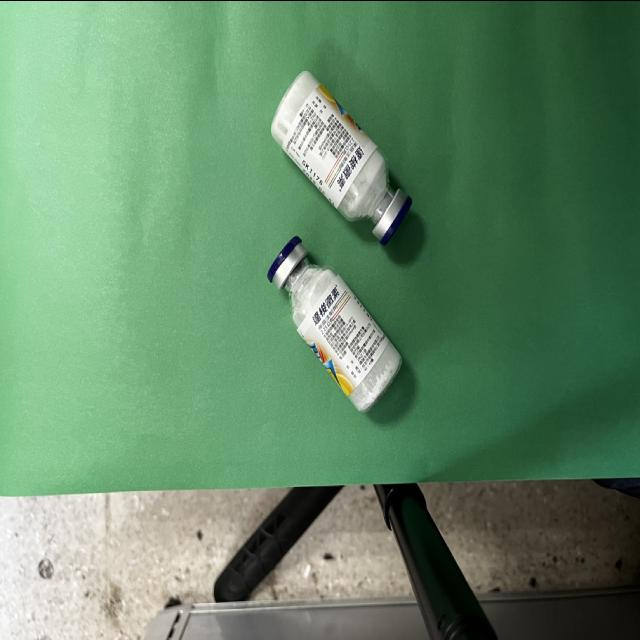Vials: (271, 71, 412, 244), (268, 236, 402, 410)
